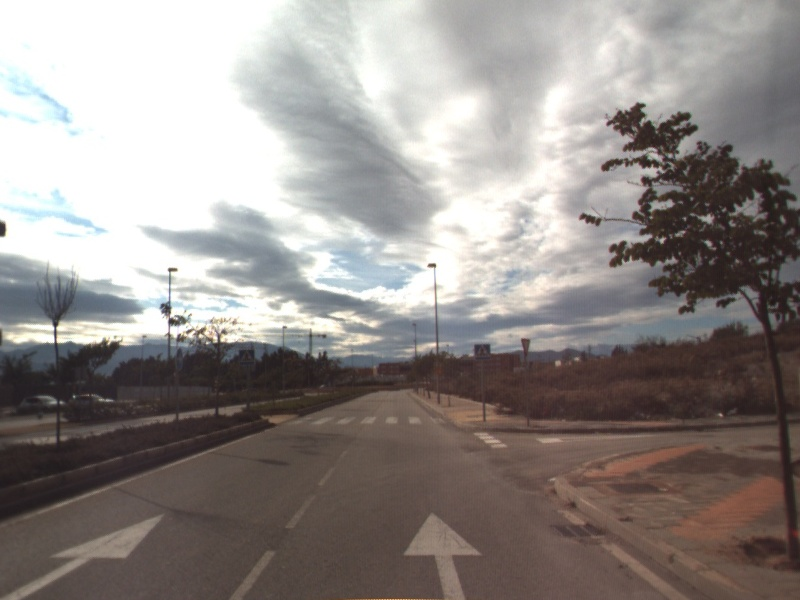STRAIGHT: (1, 511, 168, 600), (401, 509, 485, 600)
